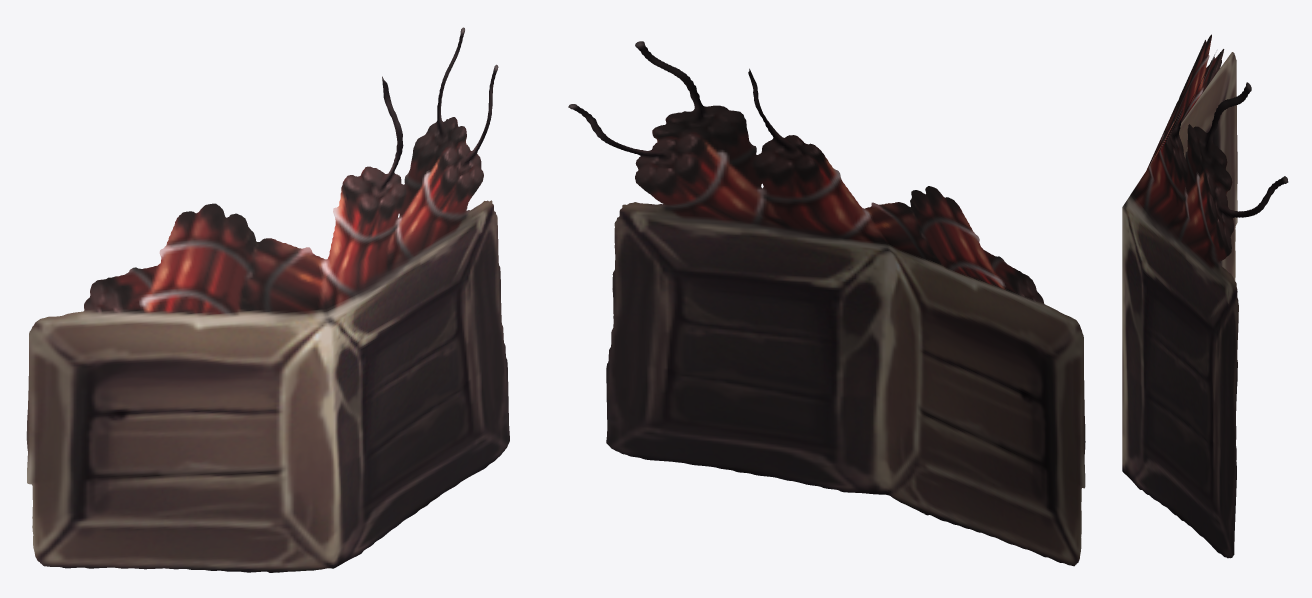
Rendered from Crate TNT.FBX.
3 renders of one model, left to right at view 1: azimuth 30°, elevation 25°; view 2: azimuth 150°, elevation 25°; view 3: azimuth 270°, elevation 25°, orthographic. The views are drawn at different scales.
Visible parts, largest first — view 1: Crate TNT; view 2: Crate TNT; view 3: Crate TNT.
Part boxes in pixels (left/top/right/bottom): Crate TNT: left=26, top=27, right=509, bottom=572; Crate TNT: left=568, top=41, right=1085, bottom=566; Crate TNT: left=1122, top=34, right=1288, bottom=558.
Bounding box in the file's own units: 331 × 90.57 × 303.
